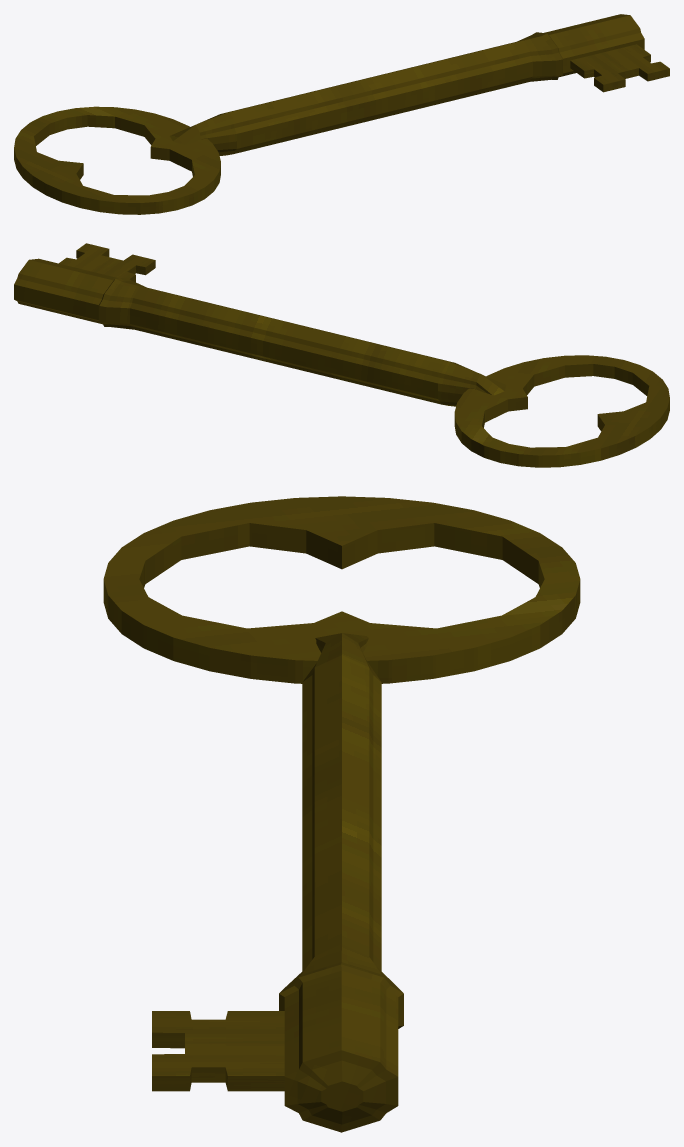
The model's file is Key.fbx.
3 renders of one model, top to bottom at view 1: azimuth 30°, elevation 25°; view 2: azimuth 150°, elevation 25°; view 3: azimuth 270°, elevation 25°, orthographic. The views are drawn at different scales.
Visible parts, largest first — view 1: Cylinder.001; view 2: Cylinder.001; view 3: Cylinder.001.
Part boxes in pixels (<box>): Cylinder.001: <box>14,14,669,214</box>; Cylinder.001: <box>14,243,669,467</box>; Cylinder.001: <box>103,496,580,1132</box>.
Size of the model in its own units: 710 by 51.16 by 244.
